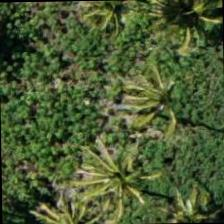Kelapa_Sawit: (69, 129, 161, 221), (119, 52, 211, 144), (76, 0, 168, 52), (17, 176, 109, 223)
